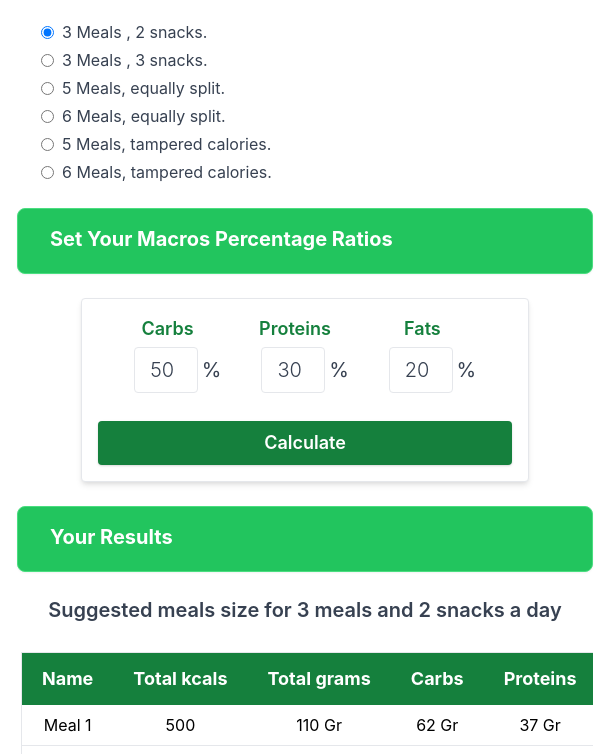
error messages › toggle error message when radios dont sum up to 100
(page scrolled)
Replace the text in the number field labelled "proteins" with "10". click: (293, 370)
box: [261,347,325,393]
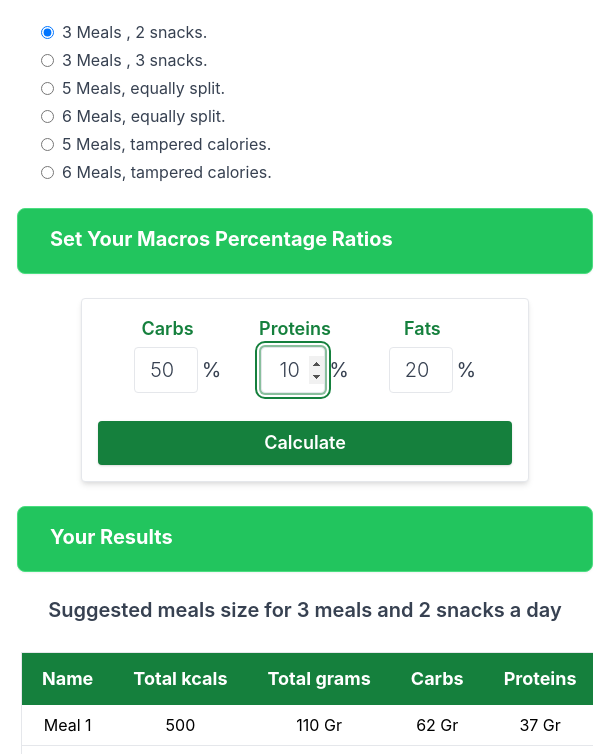
Click the button "Calculate". click: click(305, 443)
box: [98,421,512,465]
(page scrolled)
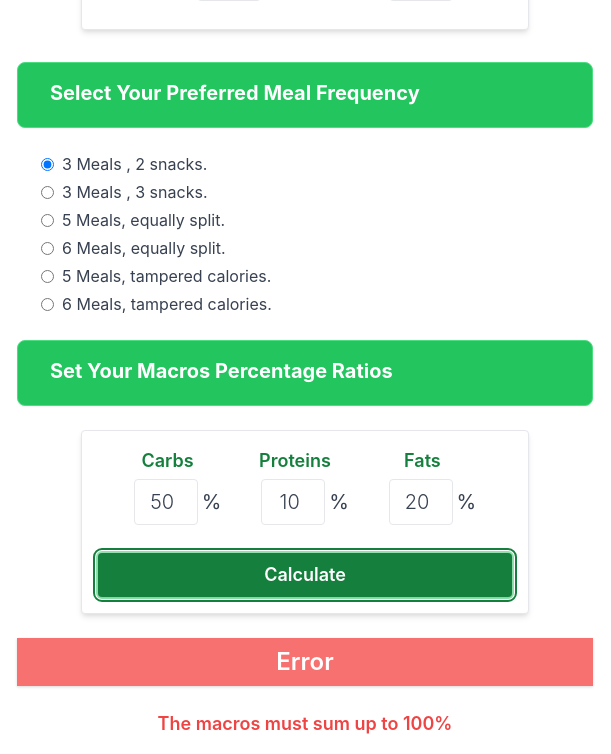
Expected: the heading "The macros must sum up to 100%" is shown, [158,713,452,734]
Replace the text in the number field labelled "proteins" with "30". click: (293, 502)
box: [261,479,325,525]
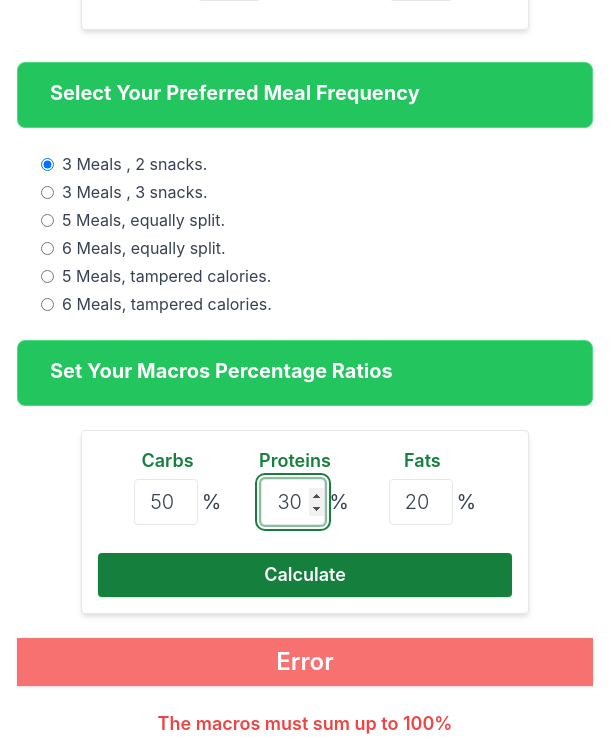
Click the button "Calculate". click: click(305, 575)
box: [98,553,512,597]
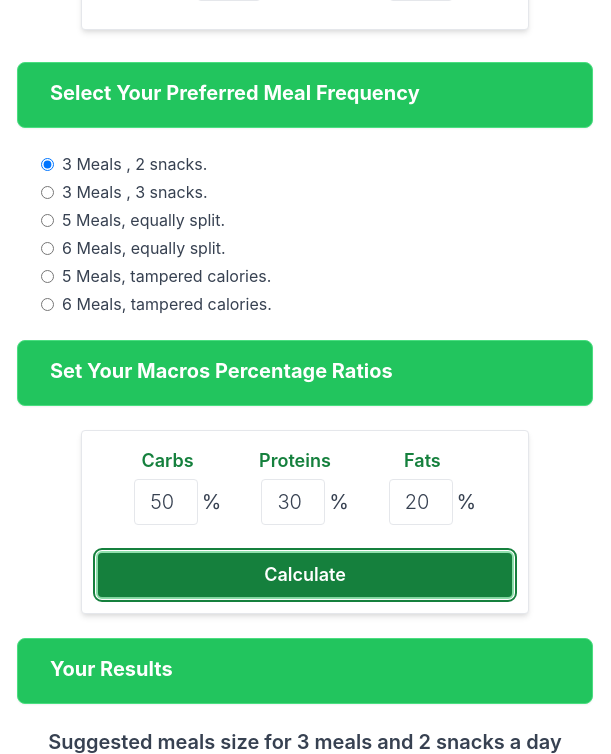
Expected: the heading "The macros must sum up to 100%" is gone
